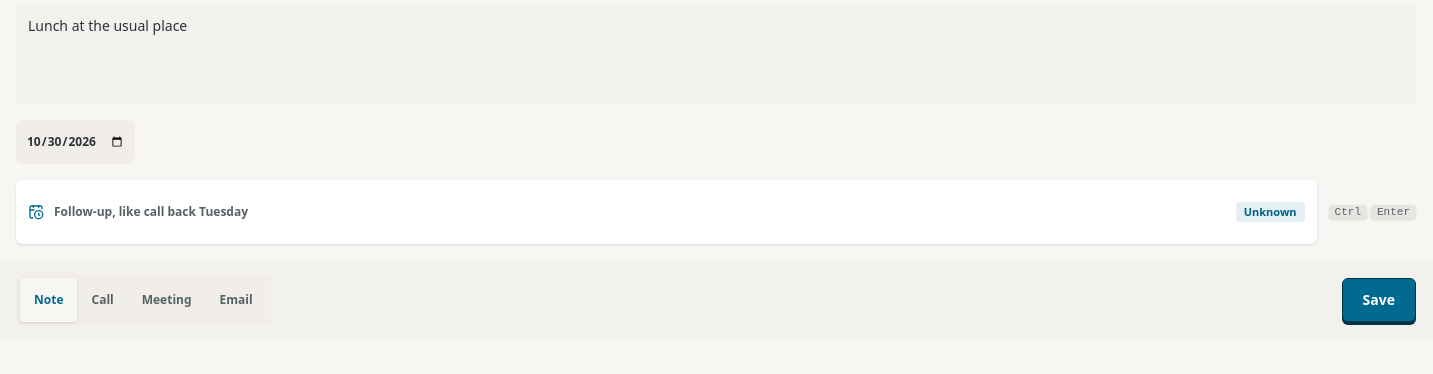
the compact composer › asks for a contact when there is text and nobody is chosen
expect the field labelled "Lunch at the usual place" is shown: met, box [28,16,187,35]
Click the button "Save" at (1379, 300), box [1342,278,1416,322]
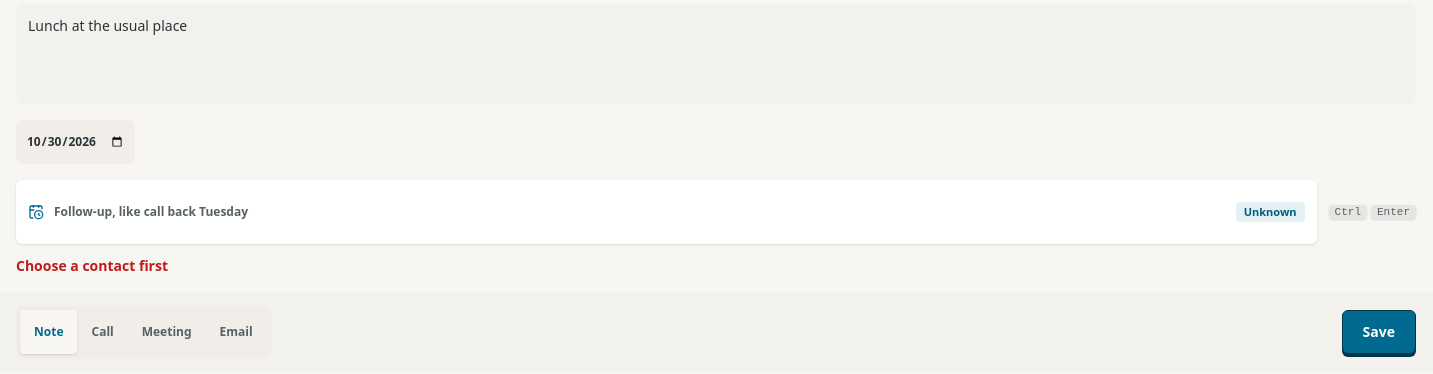
expect the message reads "Choose a contact first": met, box [16,256,168,275]
